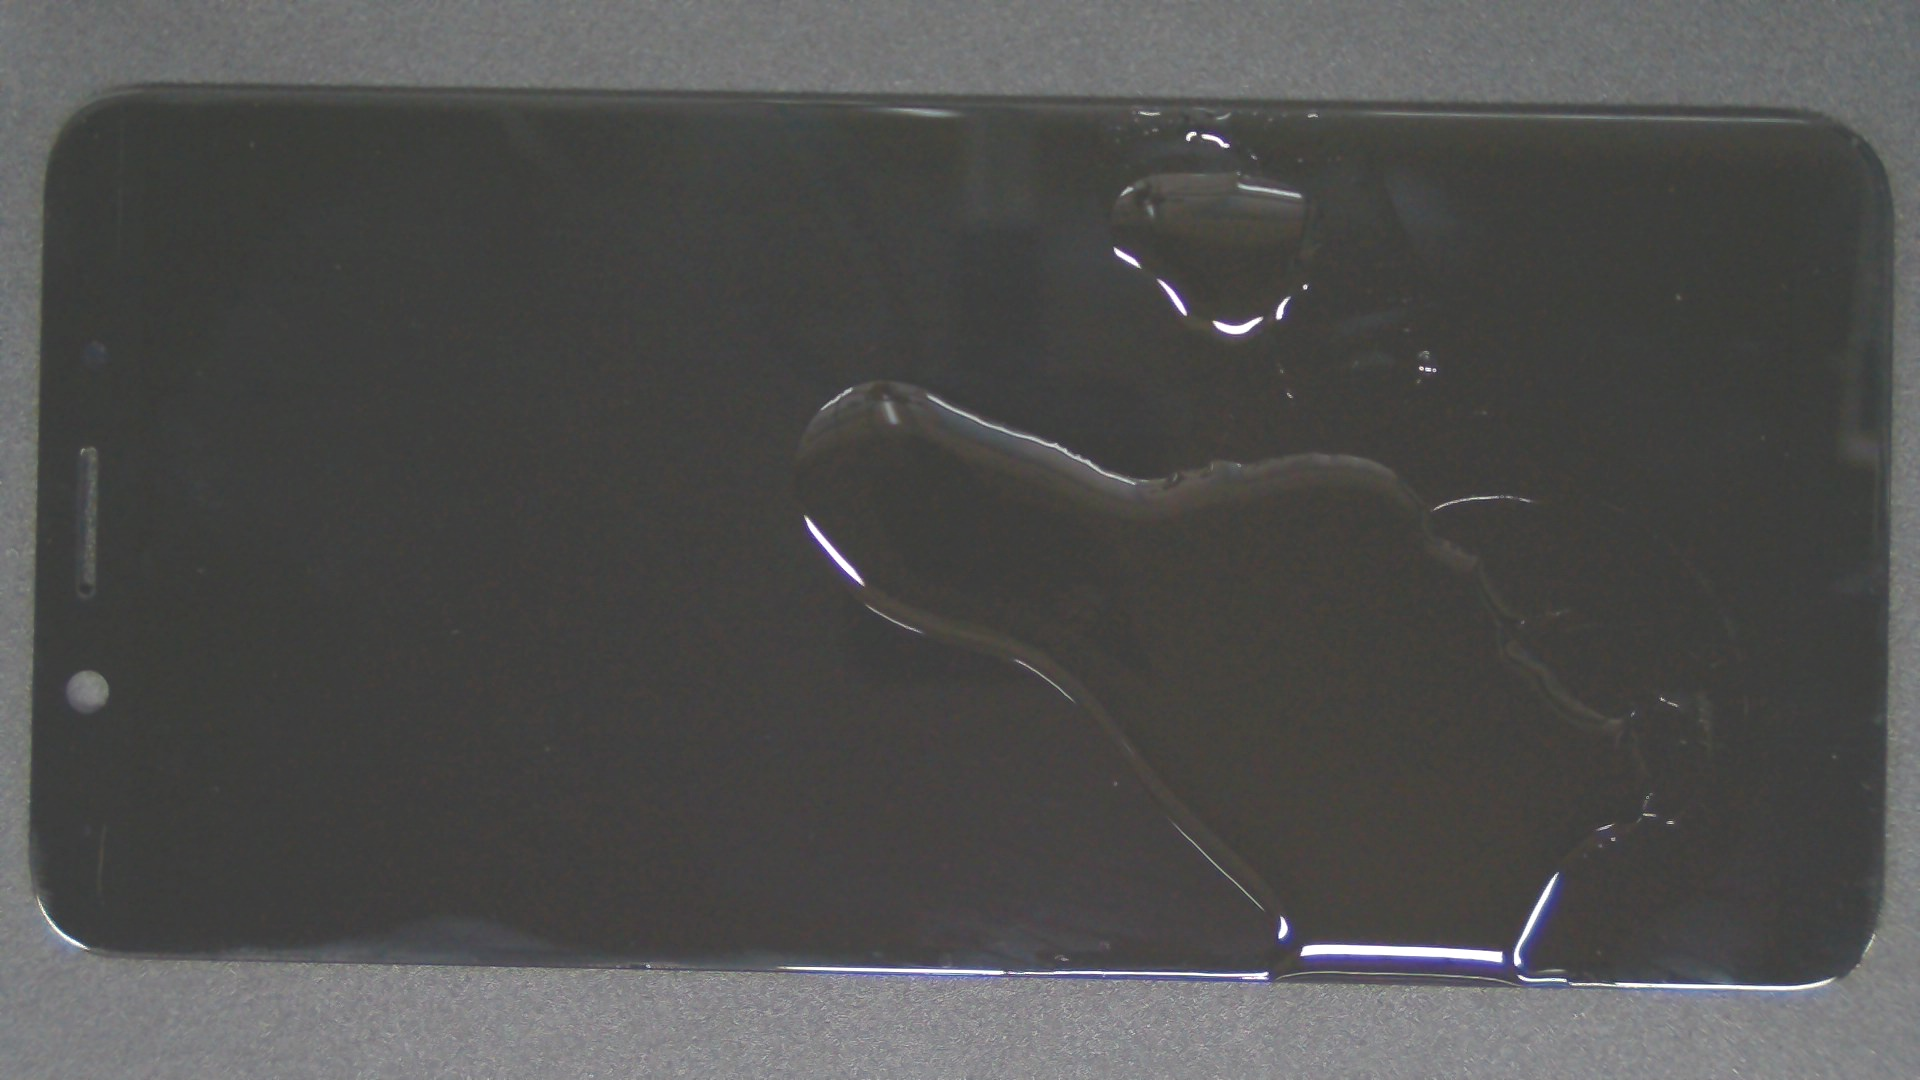oil: (711, 174, 1920, 526), (436, 190, 1305, 572), (592, 63, 1775, 193)
